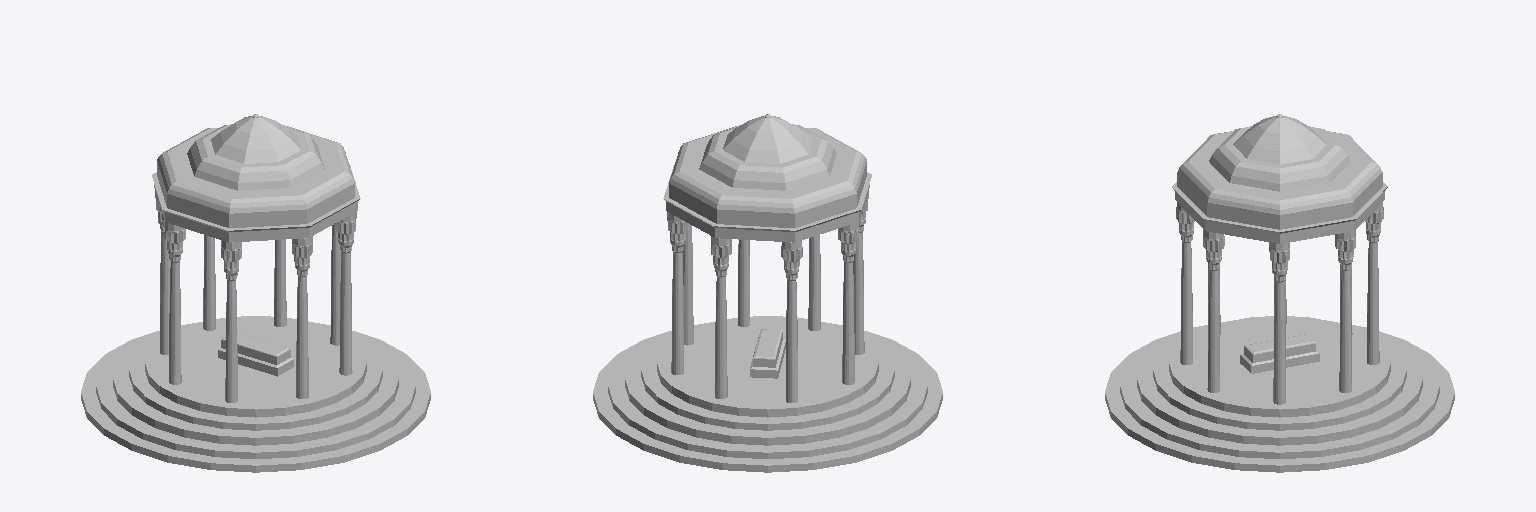
Rendered from HafezTomb.obj.
The picture shows the model from 3 angles: view 1: azimuth 30°, elevation 25°; view 2: azimuth 150°, elevation 25°; view 3: azimuth 270°, elevation 25°; orthographic projection.
Parts seen in each view (by area): view 1: HafezTomb; view 2: HafezTomb; view 3: HafezTomb.
Part boxes in pixels (bbox=[...]): HafezTomb: bbox=[81, 114, 430, 472]; HafezTomb: bbox=[593, 114, 942, 472]; HafezTomb: bbox=[1105, 114, 1454, 472].
Bounding box in the file's own units: 1103 × 992 × 1103.